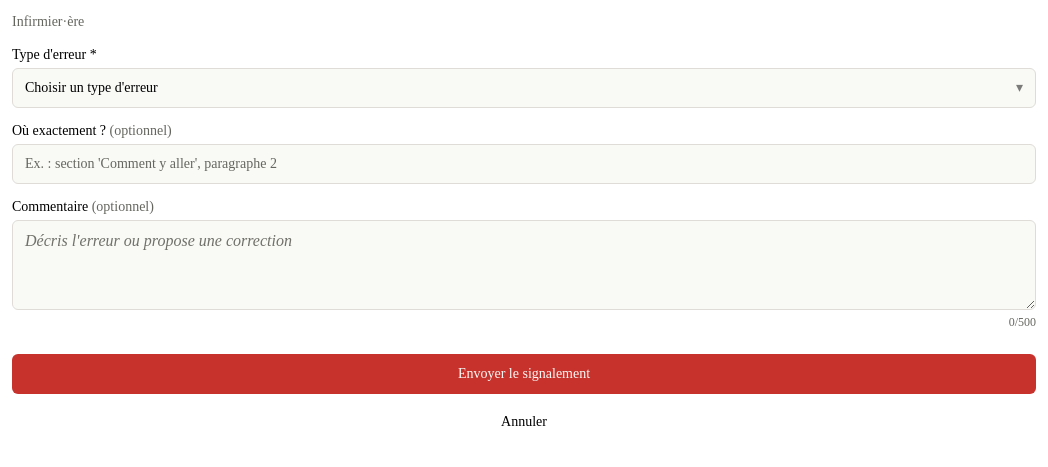
ReportErrorForm › shows validation error when submitted without error_type
The image size is (1048, 467).
What coordinates should you click on to do the following:
click the button "Envoyer le signalement"
I would click on:
 (524, 374)
Its box is [12,354,1036,394].
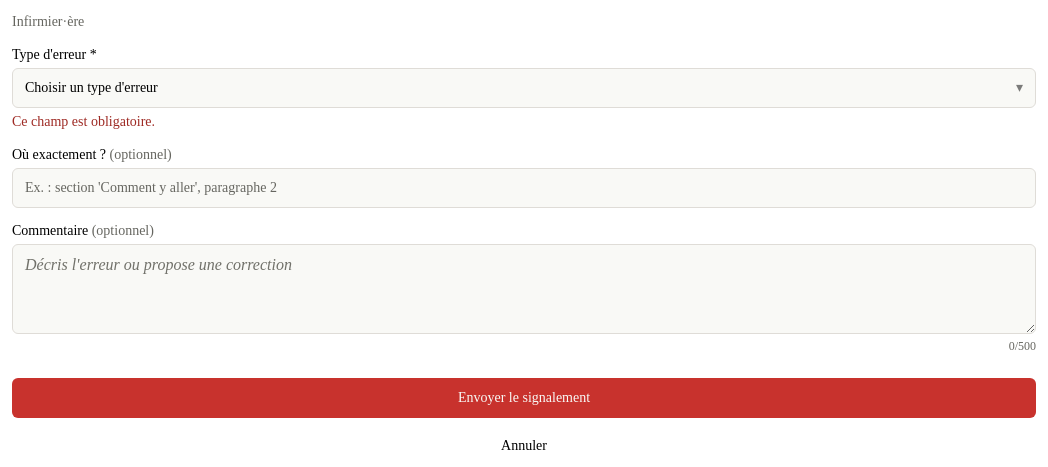
Now the text "Ce champ est obligatoire." is shown, box [12,114,155,129]
